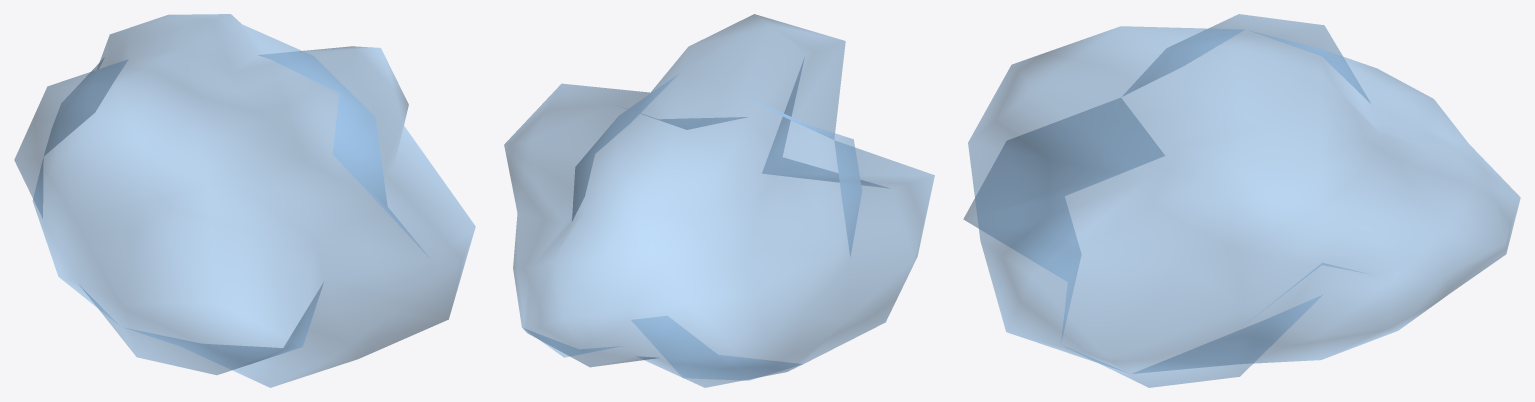
The model's file is m_ver'lak_shield.gltf.
3 renders of one model, left to right at view 1: azimuth 30°, elevation 25°; view 2: azimuth 150°, elevation 25°; view 3: azimuth 270°, elevation 25°, orthographic. The views are drawn at different scales.
Visible parts, largest first — view 1: m_ver'lak.shield; view 2: m_ver'lak.shield; view 3: m_ver'lak.shield.
Part boxes in pixels (left/top/right/bottom): m_ver'lak.shield: left=14, top=14, right=475, bottom=387; m_ver'lak.shield: left=504, top=14, right=934, bottom=387; m_ver'lak.shield: left=963, top=14, right=1520, bottom=387.
Bounding box in the file's own units: 33.58 × 29.64 × 44.84.
